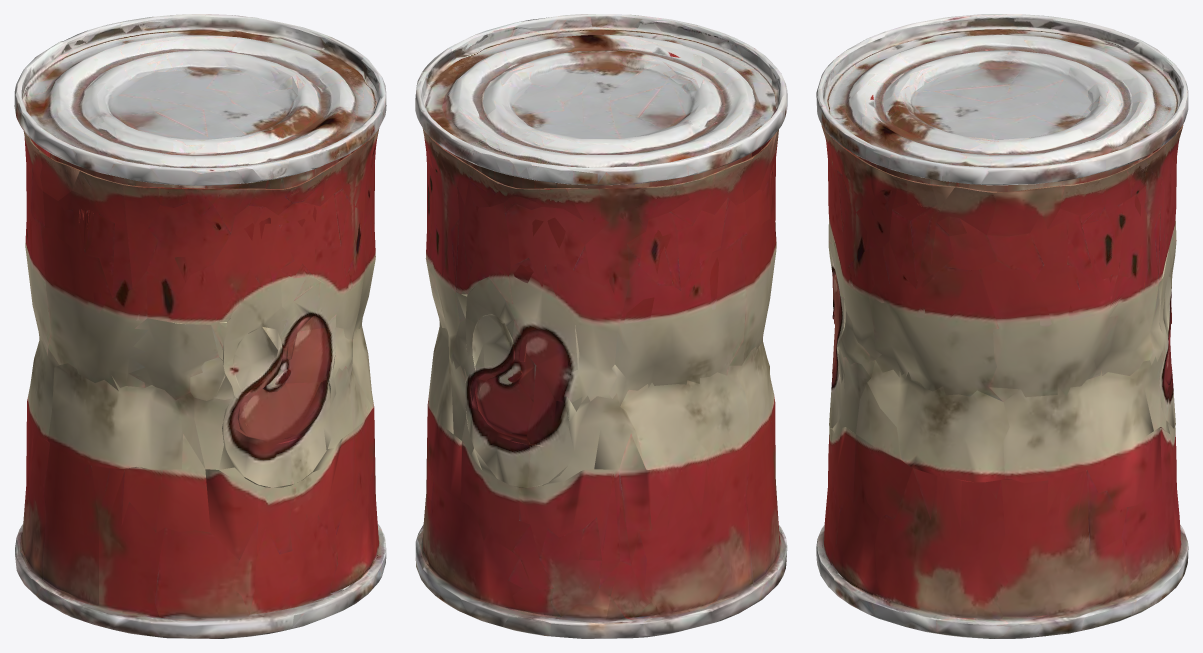
Rendered from prop-tincan.glb.
The picture shows the model from 3 angles, left to right: view 1: azimuth 30°, elevation 25°; view 2: azimuth 150°, elevation 25°; view 3: azimuth 270°, elevation 25°; orthographic projection.
Bounding box in the file's own units: 1.36 × 1.9 × 1.36.
Materials: 1 (1 with a texture image).
